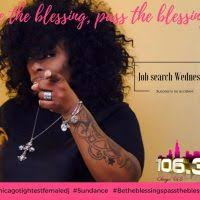ring: (37, 89, 56, 101)
